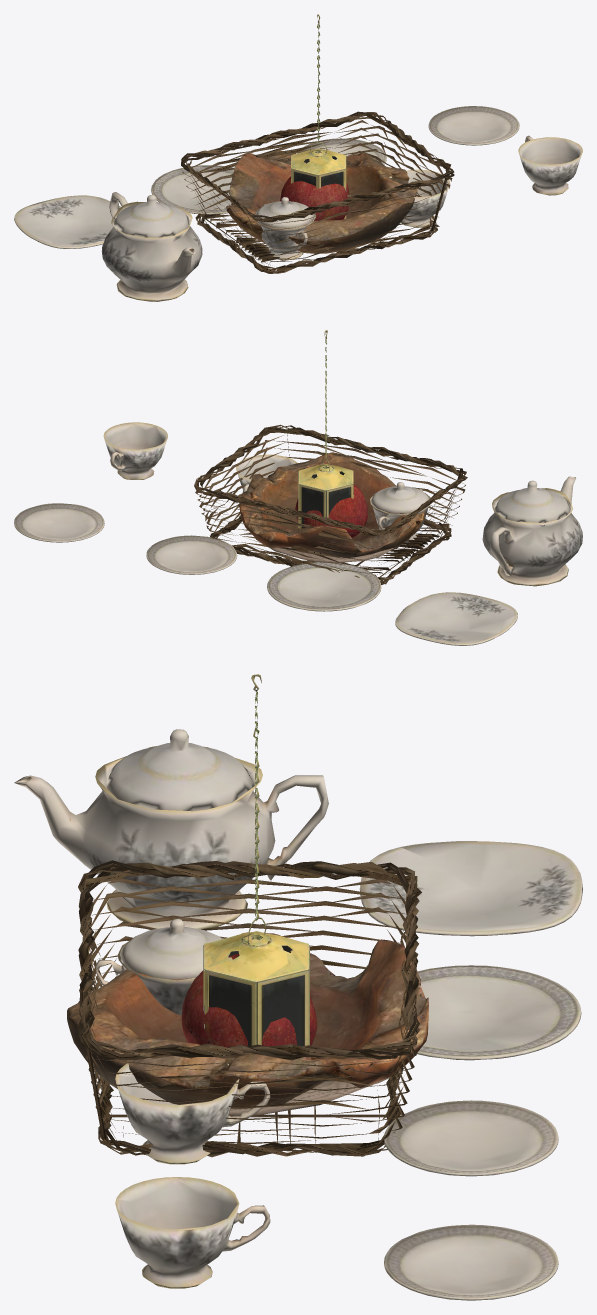
The model's file is polyhaven.glb.
3 renders of one model, top to bottom at view 1: azimuth 30°, elevation 25°; view 2: azimuth 150°, elevation 25°; view 3: azimuth 270°, elevation 25°, orthographic. The views are drawn at different scales.
Visible parts, largest first — view 1: tea_set_01, wicker_basket_01, wooden_bowl_01, tea_set_01_teapot_01_lid, brass_diya_lantern, food_pomegranate_01, tea_set_01_sugar_cup_01_lid; view 2: tea_set_01, wicker_basket_01, wooden_bowl_01, brass_diya_lantern, tea_set_01_teapot_01_lid, food_pomegranate_01, tea_set_01_sugar_cup_01_lid, carved_wooden_plate; view 3: tea_set_01, wicker_basket_01, wooden_bowl_01, brass_diya_lantern, tea_set_01_teapot_01_lid, tea_set_01_sugar_cup_01_lid, food_pomegranate_01, carved_wooden_plate, brass_diya_lantern_chain.
Boxes of the visible parts, x1=… form: tea_set_01: x1=14, y1=106, x2=582, y2=301; wicker_basket_01: x1=181, y1=111, x2=454, y2=273; wooden_bowl_01: x1=226, y1=151, x2=417, y2=253; tea_set_01_teapot_01_lid: x1=113, y1=194, x2=189, y2=237; brass_diya_lantern: x1=291, y1=148, x2=350, y2=218; food_pomegranate_01: x1=280, y1=176, x2=349, y2=220; tea_set_01_sugar_cup_01_lid: x1=255, y1=197, x2=314, y2=228; tea_set_01: x1=14, y1=422, x2=582, y2=645; wicker_basket_01: x1=194, y1=424, x2=467, y2=584; wooden_bowl_01: x1=239, y1=452, x2=424, y2=557; brass_diya_lantern: x1=298, y1=464, x2=353, y2=528; tea_set_01_teapot_01_lid: x1=494, y1=480, x2=570, y2=522; food_pomegranate_01: x1=295, y1=484, x2=367, y2=537; tea_set_01_sugar_cup_01_lid: x1=371, y1=482, x2=429, y2=513; carved_wooden_plate: x1=256, y1=539, x2=399, y2=563; tea_set_01: x1=14, y1=746, x2=582, y2=1300; wicker_basket_01: x1=78, y1=860, x2=421, y2=1157; wooden_bowl_01: x1=67, y1=933, x2=428, y2=1116; brass_diya_lantern: x1=203, y1=931, x2=309, y2=1051; tea_set_01_teapot_01_lid: x1=106, y1=729, x2=252, y2=811; tea_set_01_sugar_cup_01_lid: x1=120, y1=918, x2=222, y2=979; food_pomegranate_01: x1=181, y1=954, x2=317, y2=1057; carved_wooden_plate: x1=228, y1=1076, x2=390, y2=1115; brass_diya_lantern_chain: x1=251, y1=674, x2=261, y2=920.
Size of the model in its own units: 0.9183 by 0.3822 by 0.4838.
9 materials, 9 textured.
